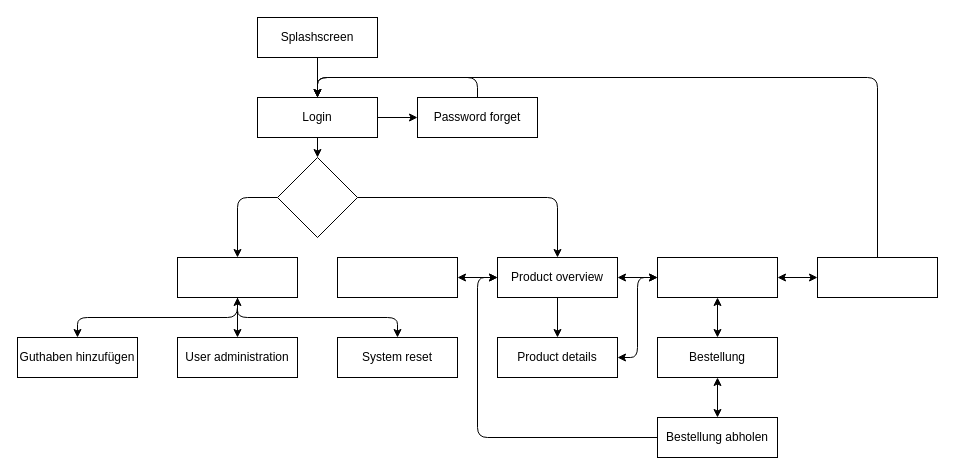
Some shapes in this 955 by 475 pixel diagram are drawn without their labels. Each missing label, with the centre of its shape:
"is admin" belongs at pixel 317 197.
"Leaderboard" belongs at pixel 397 277.
"Logout" belongs at pixel 877 277.
"Statistik Dashboard" belongs at pixel 237 277.
"Warenkorb" belongs at pixel 717 277.
